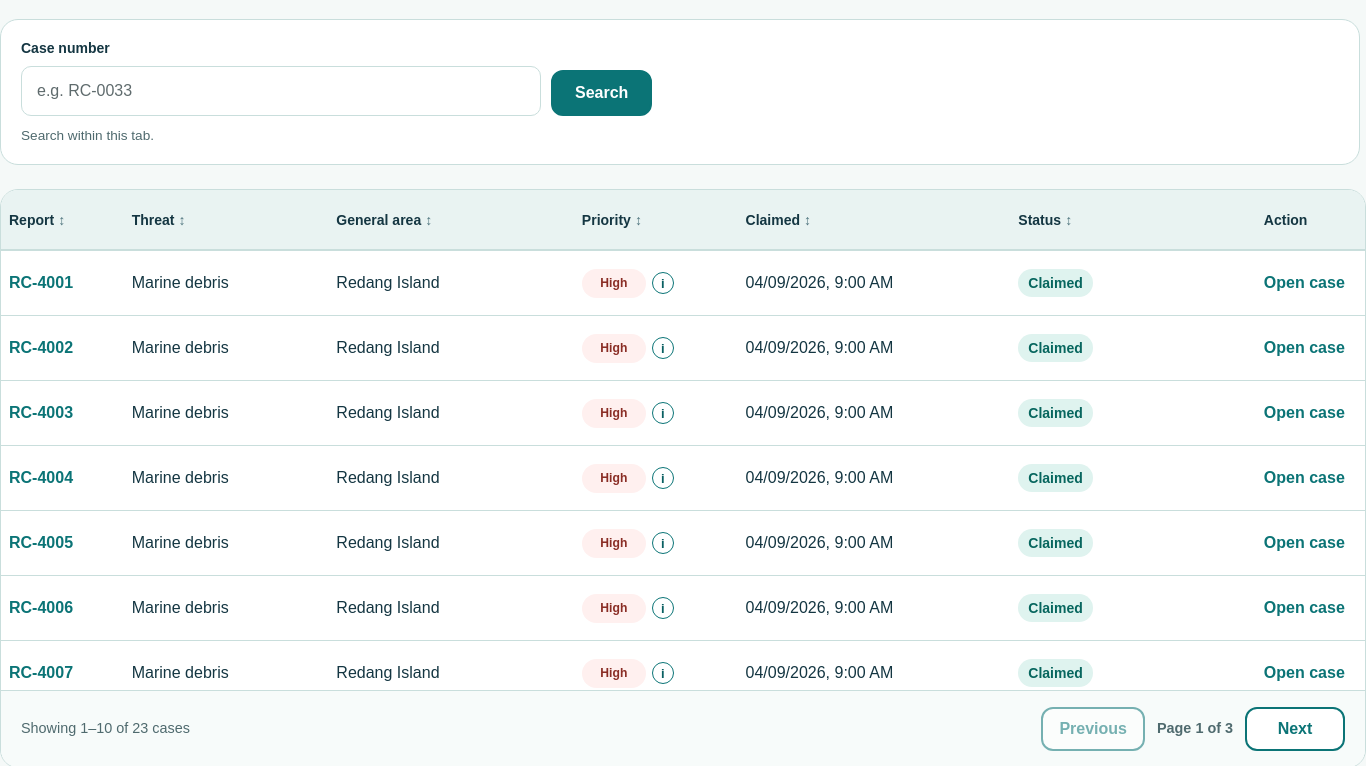
Test: Coordinator My Cases workspace › searches all owned active cases and never includes another coordinator's case
(page scrolled)
Check: the cell "RC-4001" is shown, box [1,251,124,316]
Click the button "Next": {"x": 1295, "y": 729} [1245,707,1345,751]
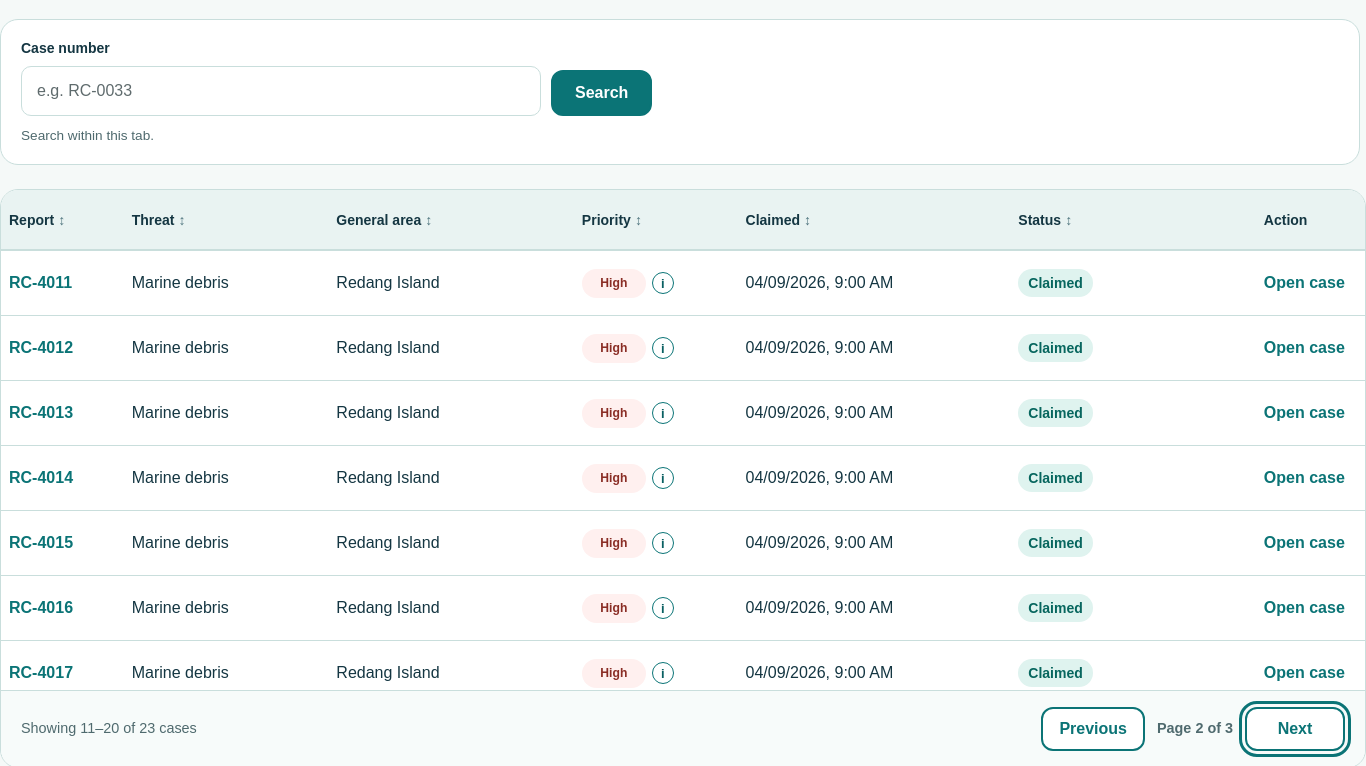
In the search field labelled "Case number": {"x": 281, "y": 91} [21,66,541,116], type "  rc-4023  "
Then press Enter
(page scrolled)
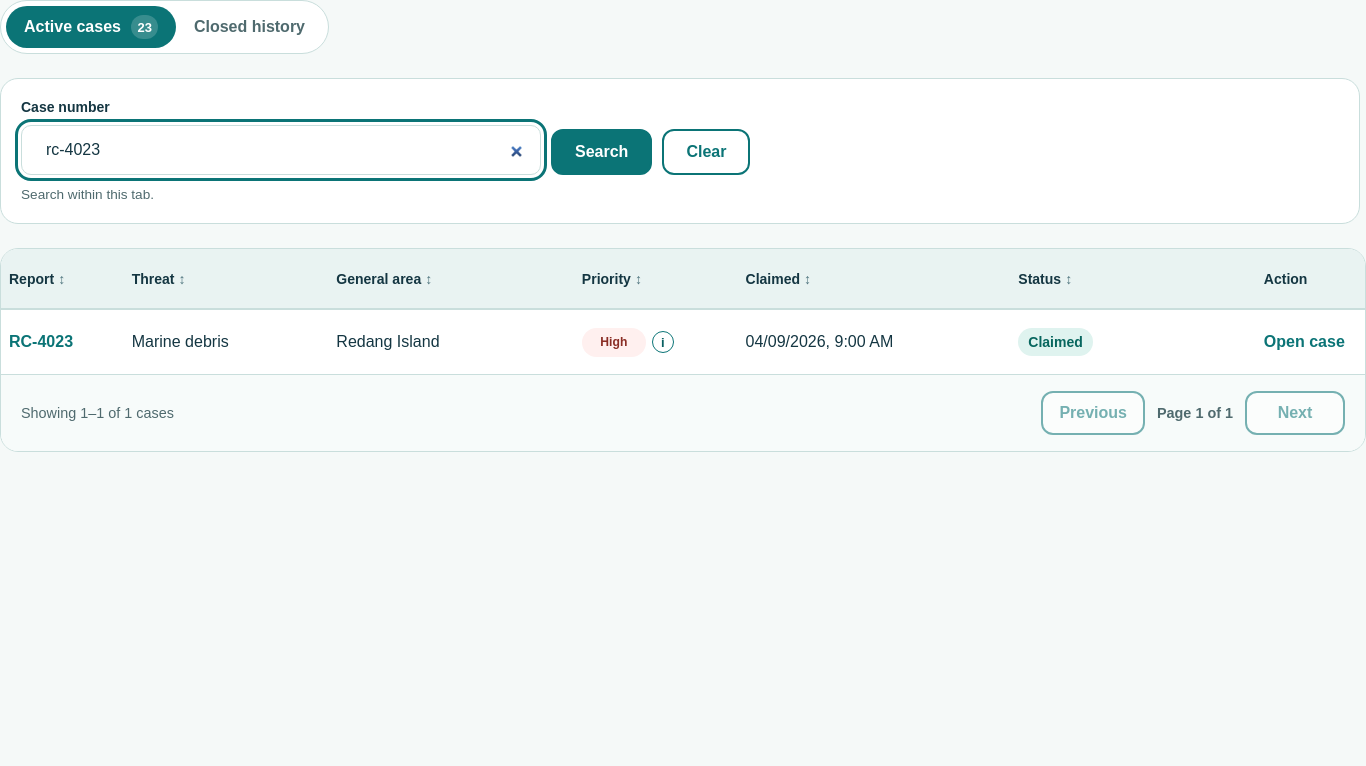
Check: the cell "RC-4023" is shown, box [1,310,124,374]
Check: the number of links named "Open case RC-" is 1, box [1264,324,1345,360]
Check: the text "Page 1 of 1" is shown, box [1157,403,1233,424]
Replace the text in the search field labelled "Case number" with "FOREIGN": {"x": 281, "y": 150} [21,125,541,175]
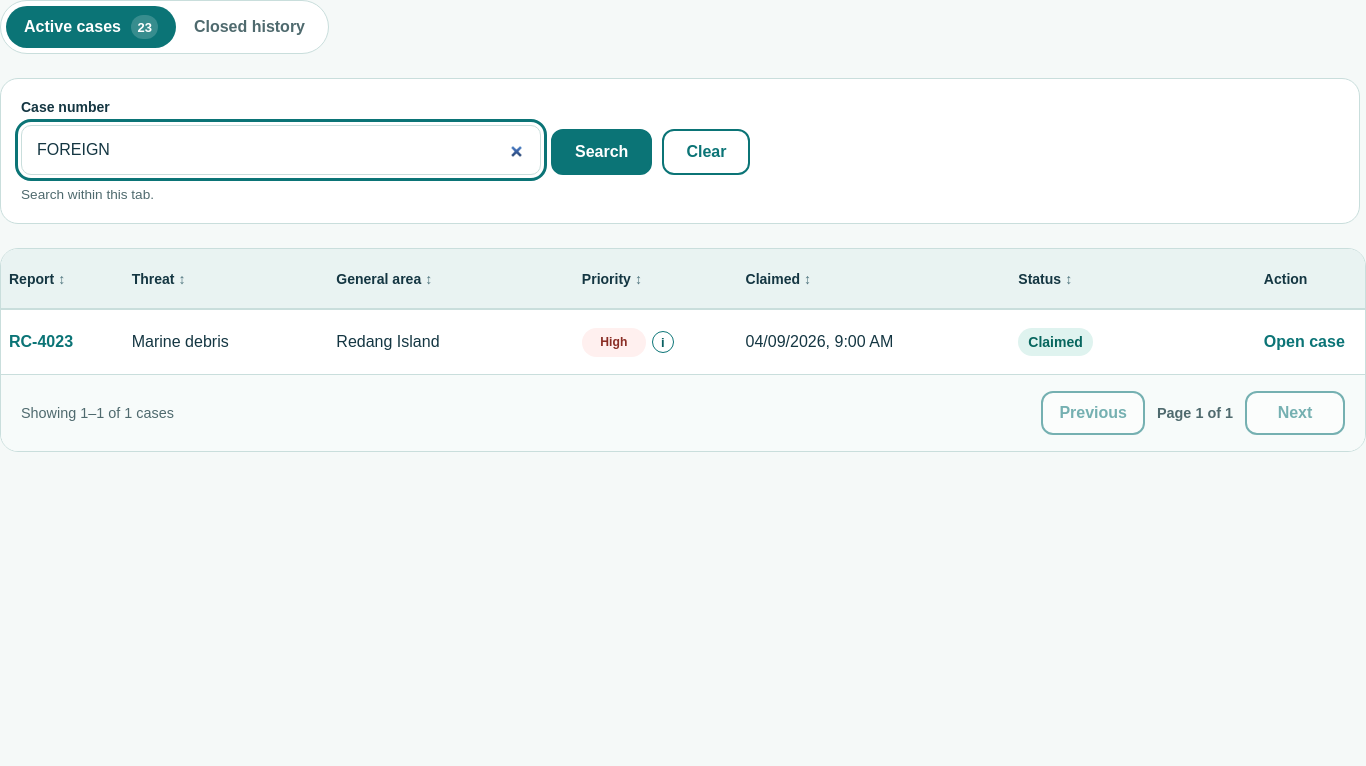
Click the button "Search": {"x": 602, "y": 152} [551,129,652,175]
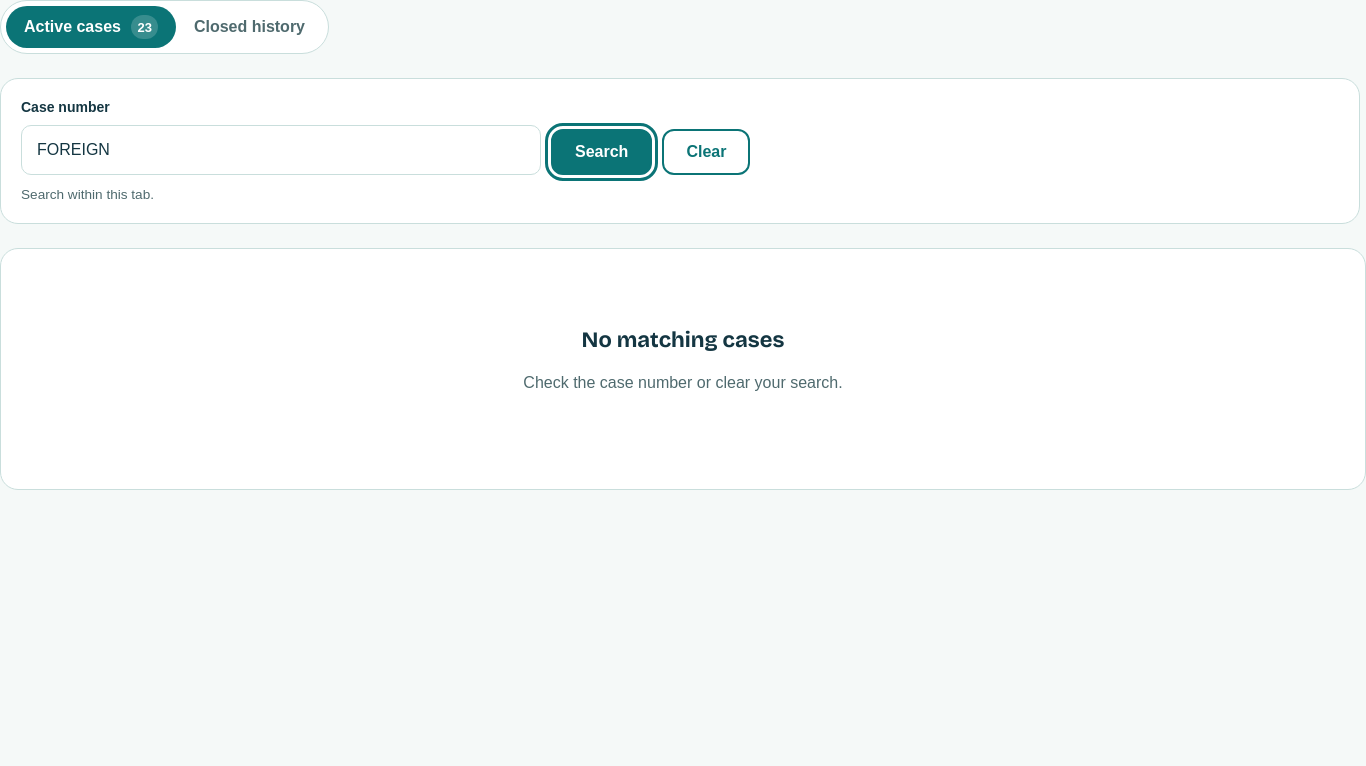
Check: the heading "No matching cases" is shown, box [582,327,784,353]
Click the button "Clear": {"x": 706, "y": 152} [662,129,750,175]
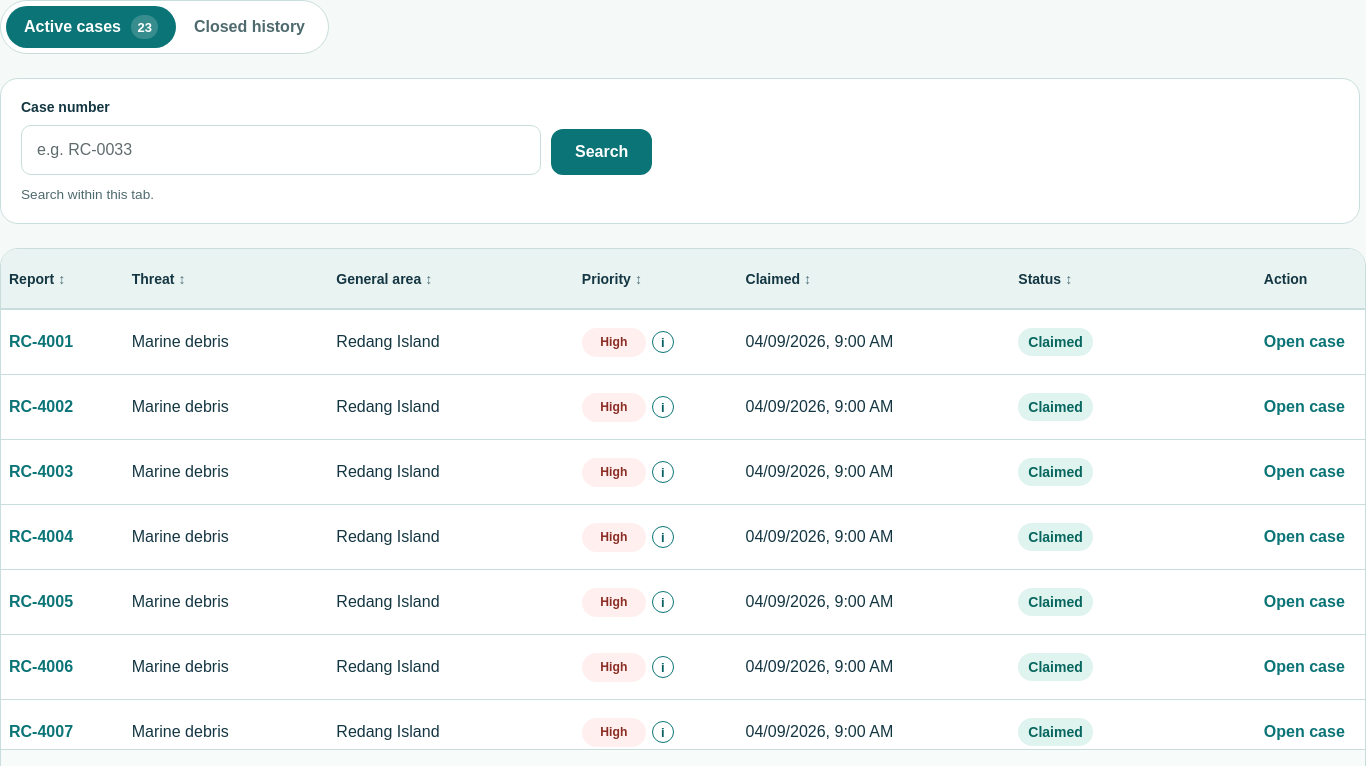
Check: the number of links named "Open case RC-" is 10
